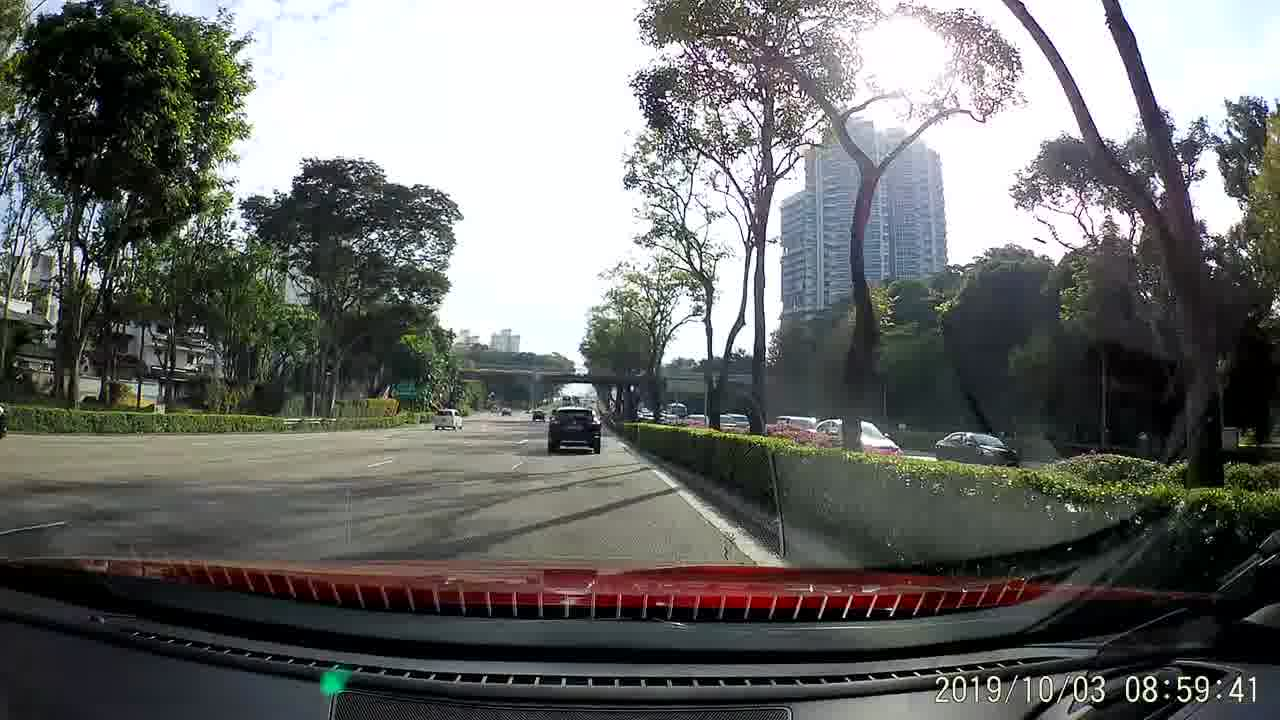car: (804, 414, 902, 457), (934, 425, 1023, 467), (546, 403, 604, 458), (431, 406, 463, 432)
